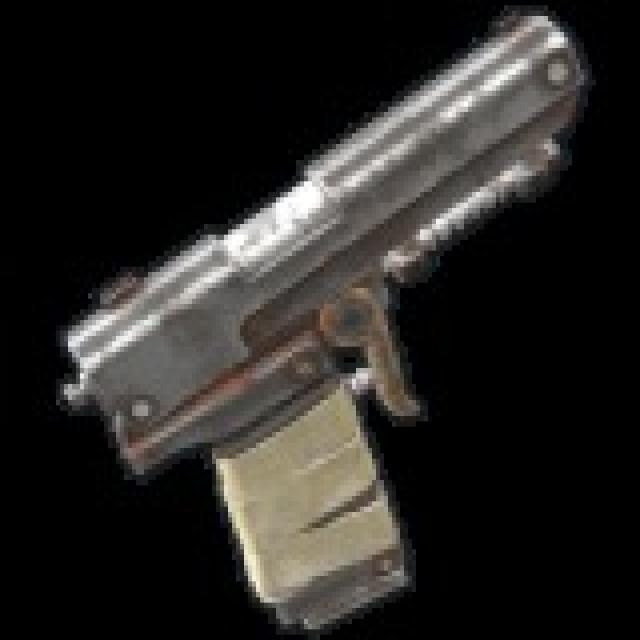Gun: (48, 7, 607, 634)
